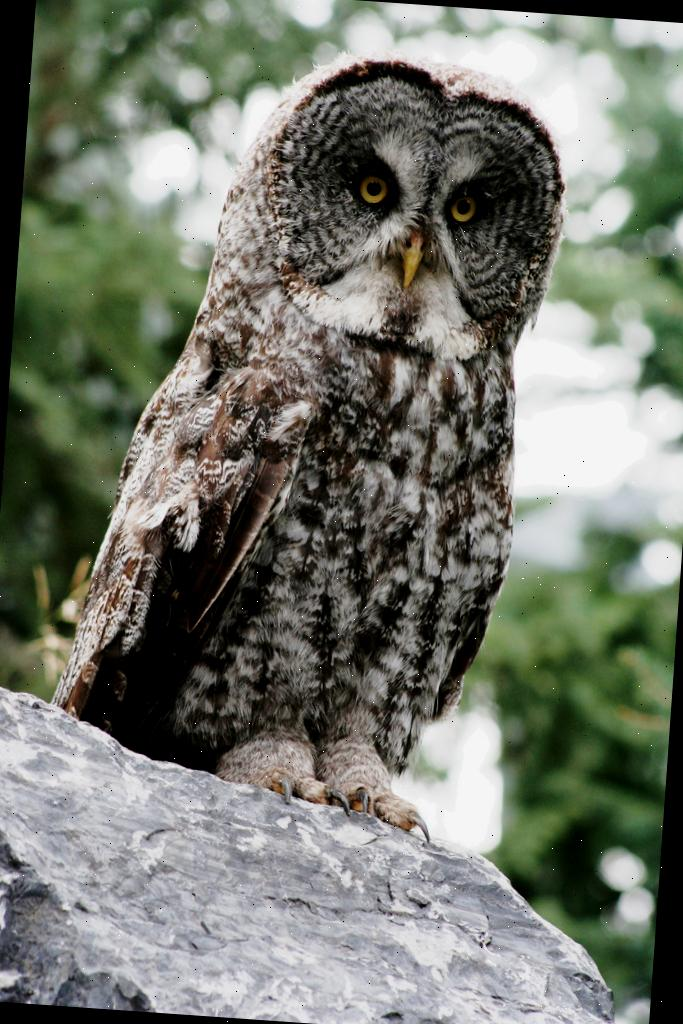Owl: (35, 27, 584, 852)
